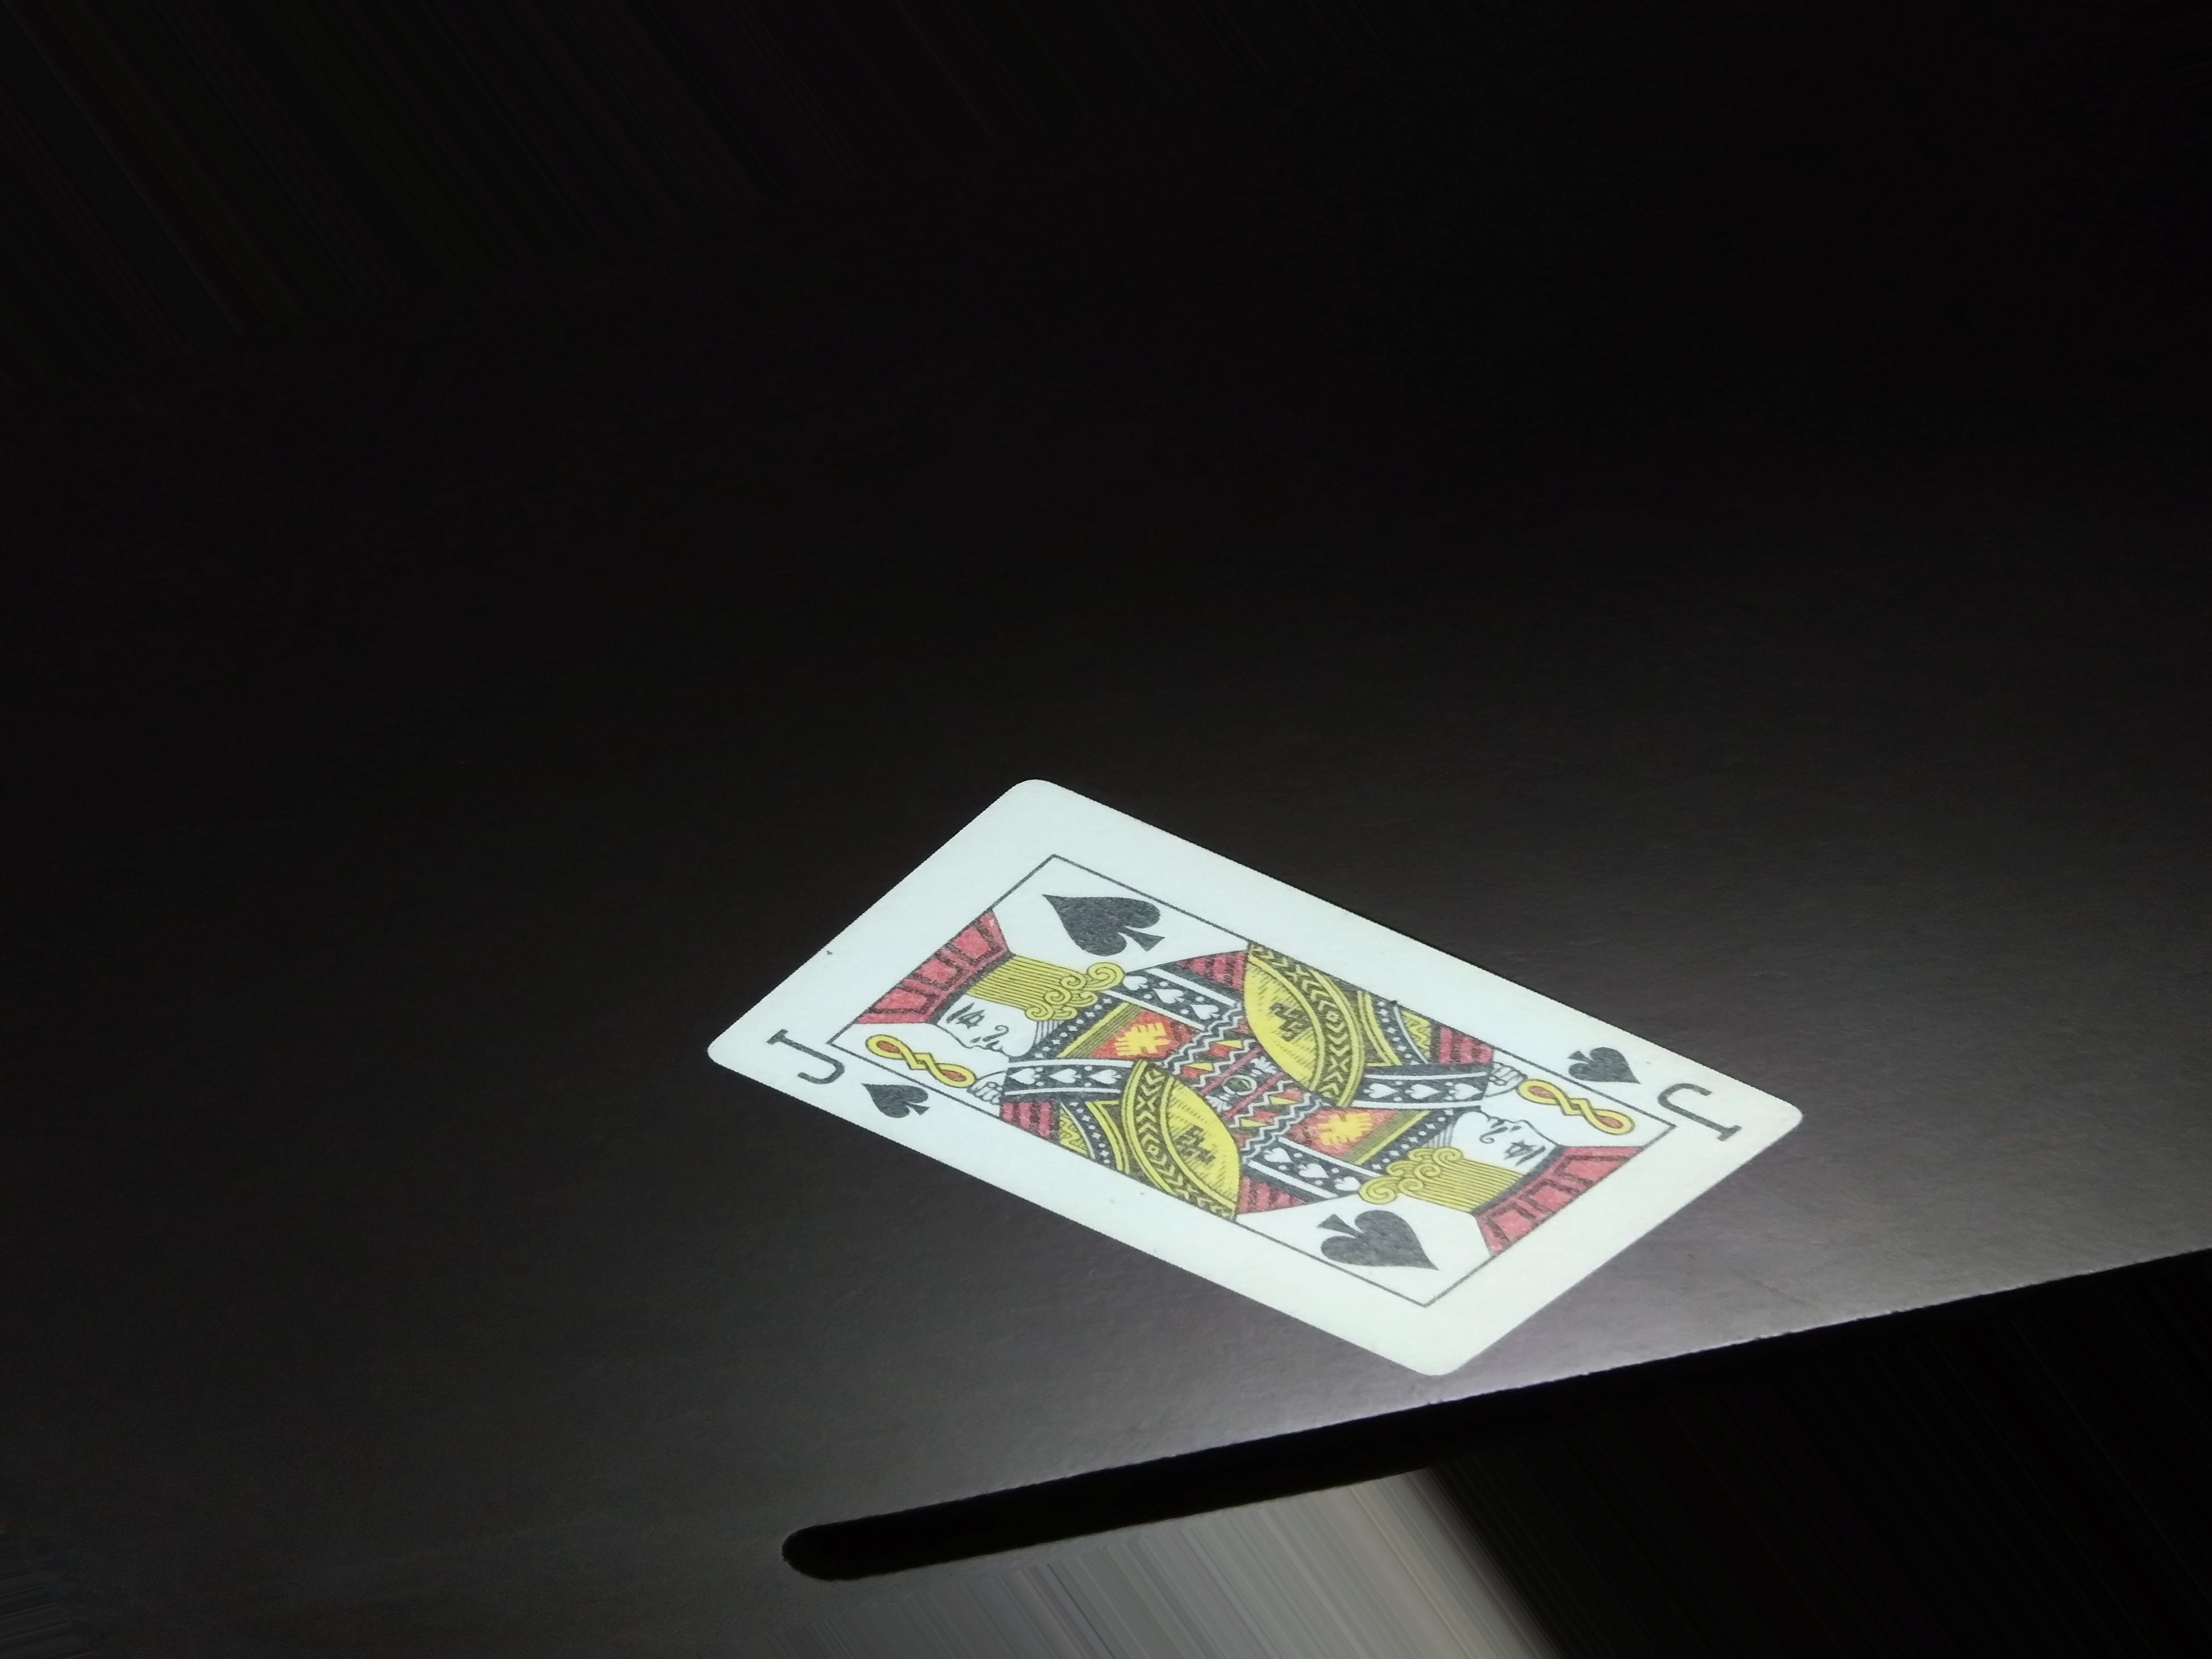JS: (1559, 1035, 1756, 1154)
